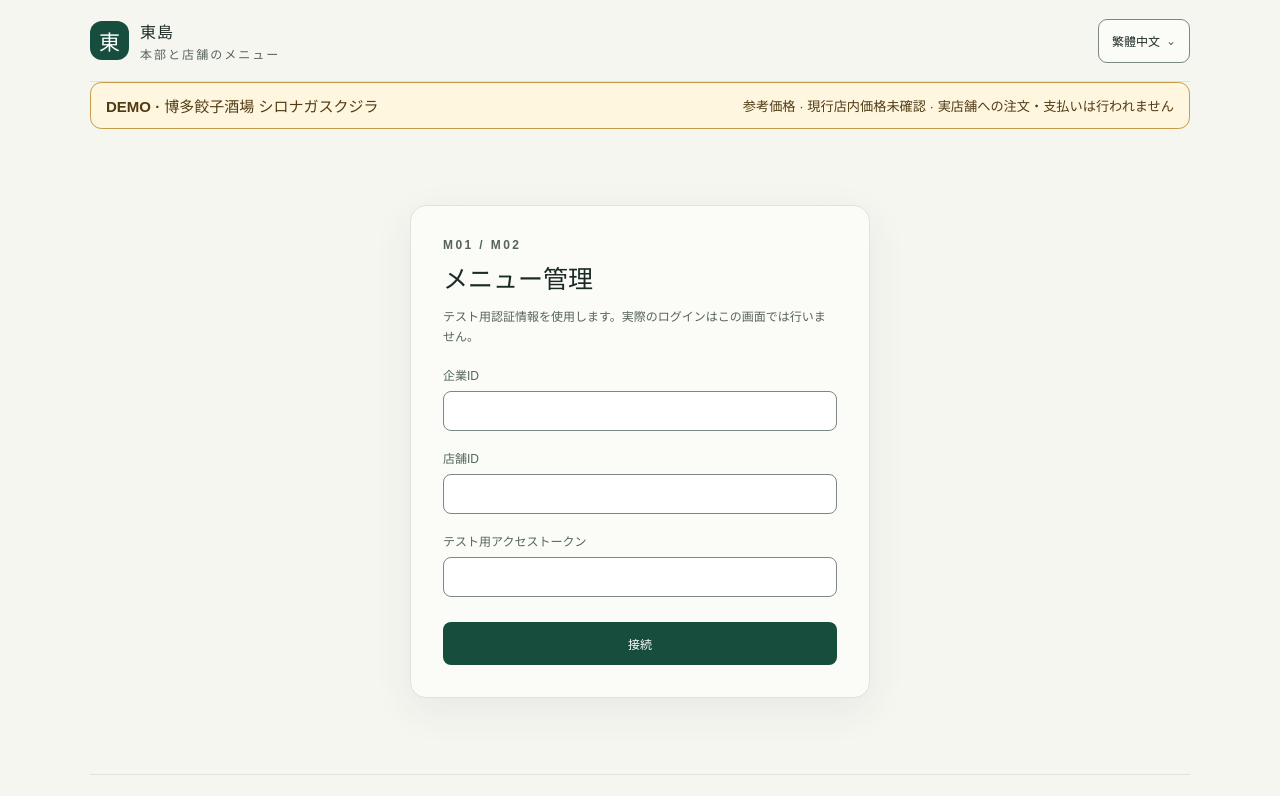
Test case: catalog admin UI › shows the demo identity across catalog entry and language changes, and stays hidden in normal mode
The width and height of the screenshot is (1280, 796).
Expected: the element "DEMO" shows "博多餃子酒場 シロナガスクジラ", [164,98,378,115]
Expected: the element "DEMO" shows "参考価格 · 現行店内価格未確認", [743,99,1174,114]
Step 1. Click the button "繁體中文 ⌄" → x=1144, y=40, box [1098,18,1190,62]
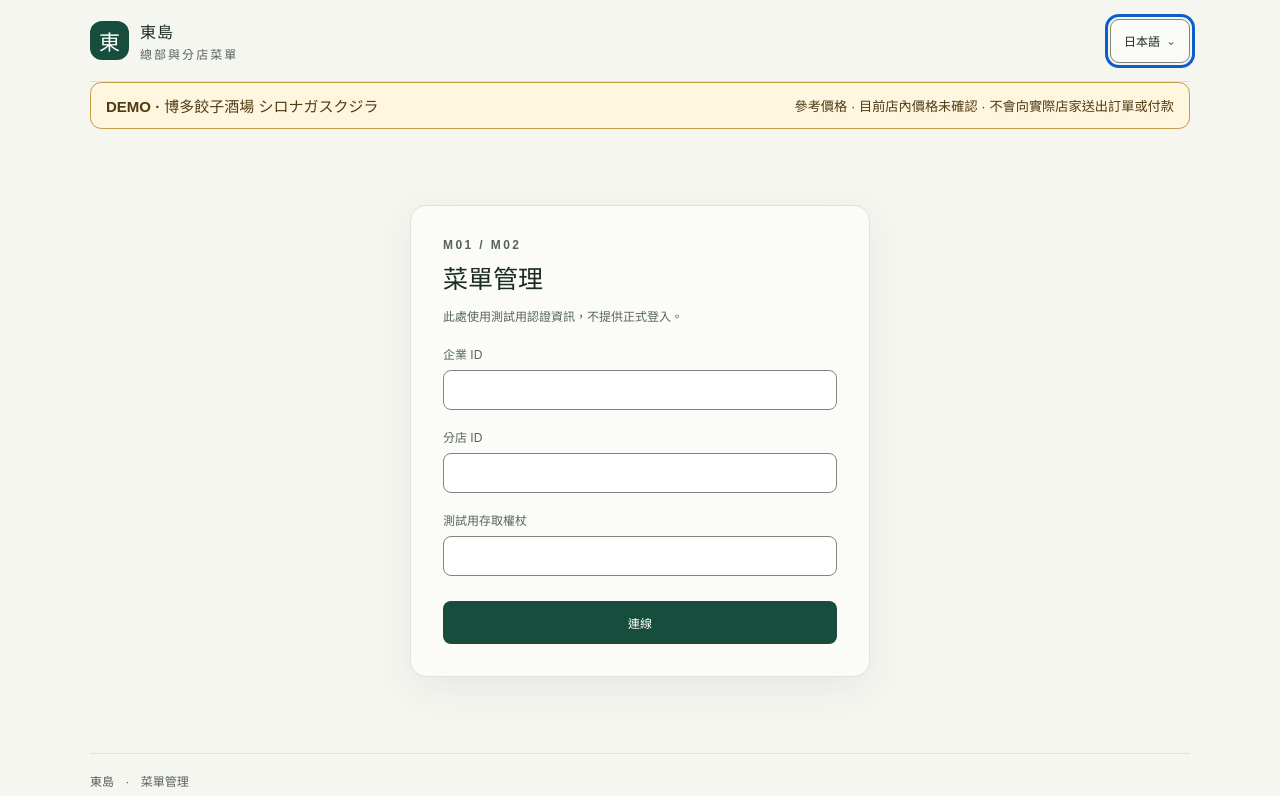
Now the element "DEMO" shows "參考價格 · 目前店內價格未確認", box [794,99,1174,114]
Now the element "DEMO" shows "不會向實際店家送出訂單或付款", box [794,99,1174,114]
